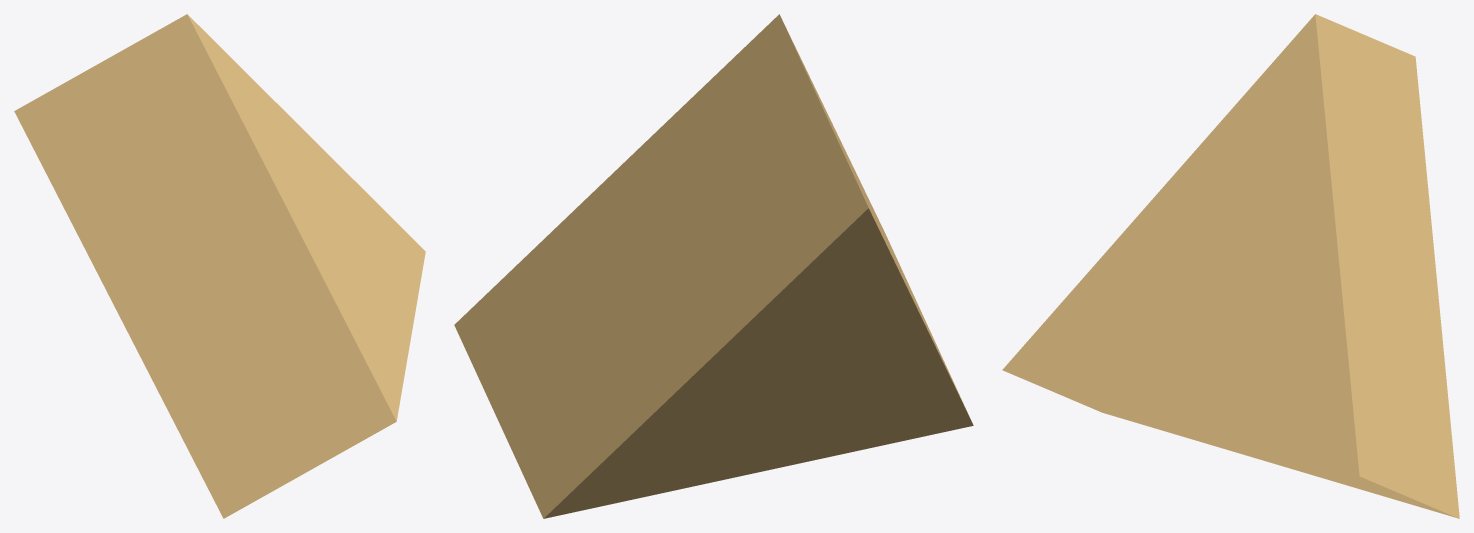
3 renders of one model, left to right at view 1: azimuth 30°, elevation 25°; view 2: azimuth 150°, elevation 25°; view 3: azimuth 270°, elevation 25°, orthographic. The views are drawn at different scales.
Visible parts, largest first — view 1: Cone_1; view 2: Cone_1; view 3: Cone_1.
Part boxes in pixels (left/top/right/bottom): Cone_1: left=14, top=14, right=425, bottom=518; Cone_1: left=454, top=14, right=973, bottom=518; Cone_1: left=1002, top=14, right=1459, bottom=518.
Bounding box in the file's own units: 0.7355 × 0.7639 × 0.7261.
